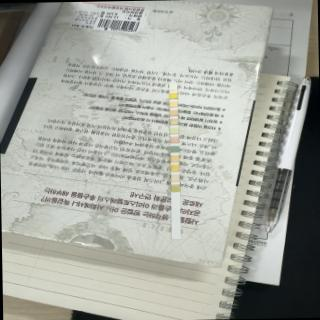mark: (170, 174, 180, 182), (170, 184, 180, 191), (170, 136, 179, 143), (170, 164, 178, 171), (171, 155, 179, 162), (170, 127, 178, 134), (170, 92, 178, 99), (168, 85, 178, 90), (170, 146, 178, 152), (170, 119, 178, 125), (170, 110, 178, 116), (170, 101, 178, 107)
